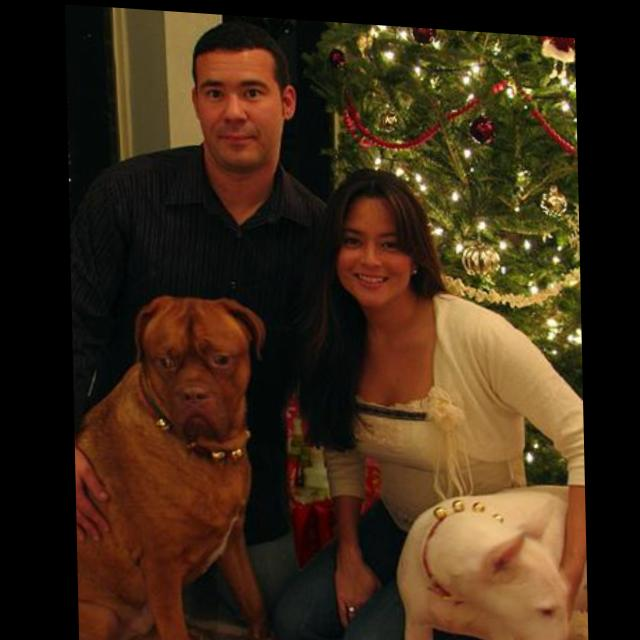bullmastiff: (70, 285, 274, 640)
bullterrier: (368, 466, 587, 640)
face: (196, 43, 283, 166), (337, 190, 413, 303)
person: (66, 9, 341, 640), (261, 157, 587, 640)
